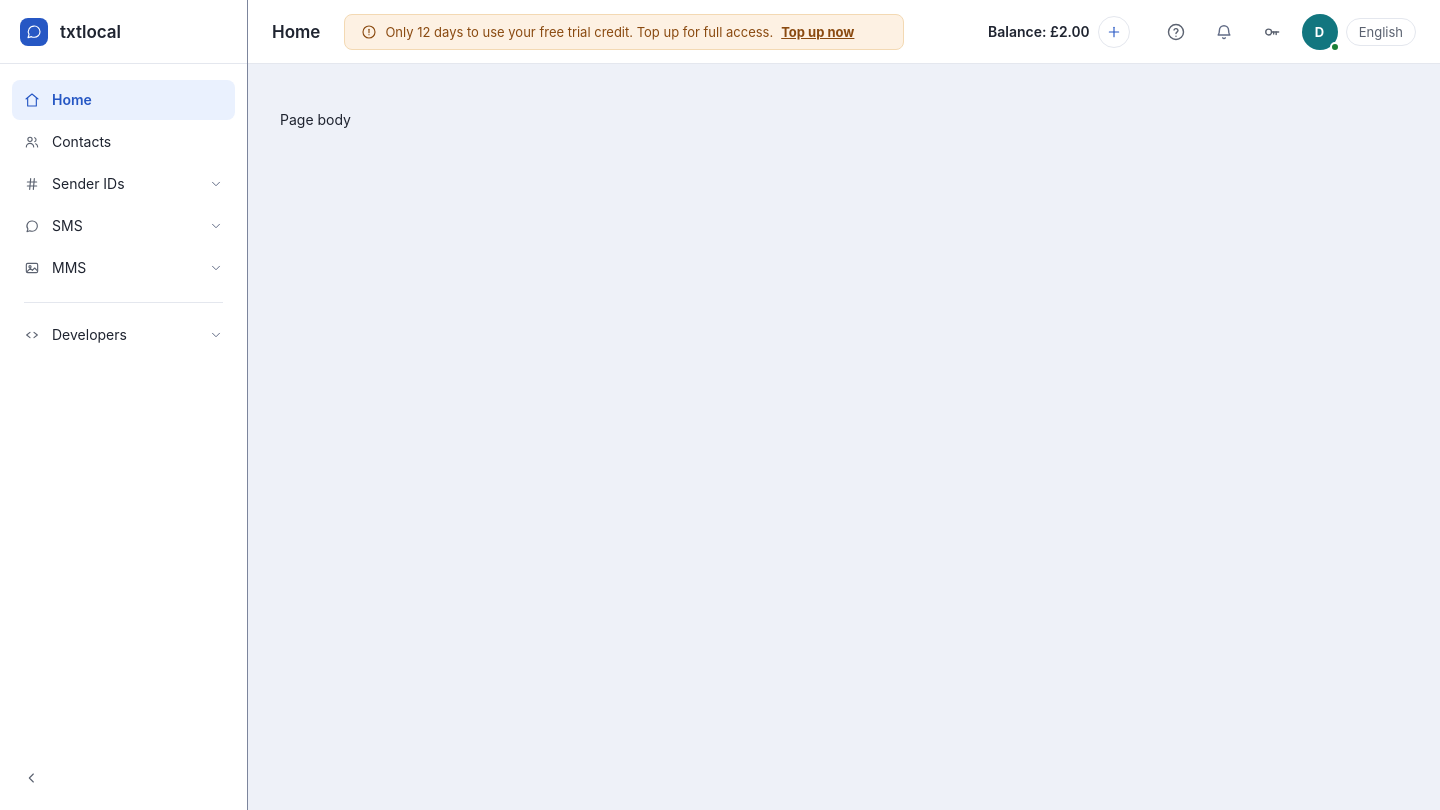
Test case: Sidebar › hides the sidebar navigation once collapsed
The image size is (1440, 810).
Expected: the text "Page body" is shown, [280,111,351,128]
Click the button named "Collapse sidebar".
click(32, 778)  # box [12,758,52,798]
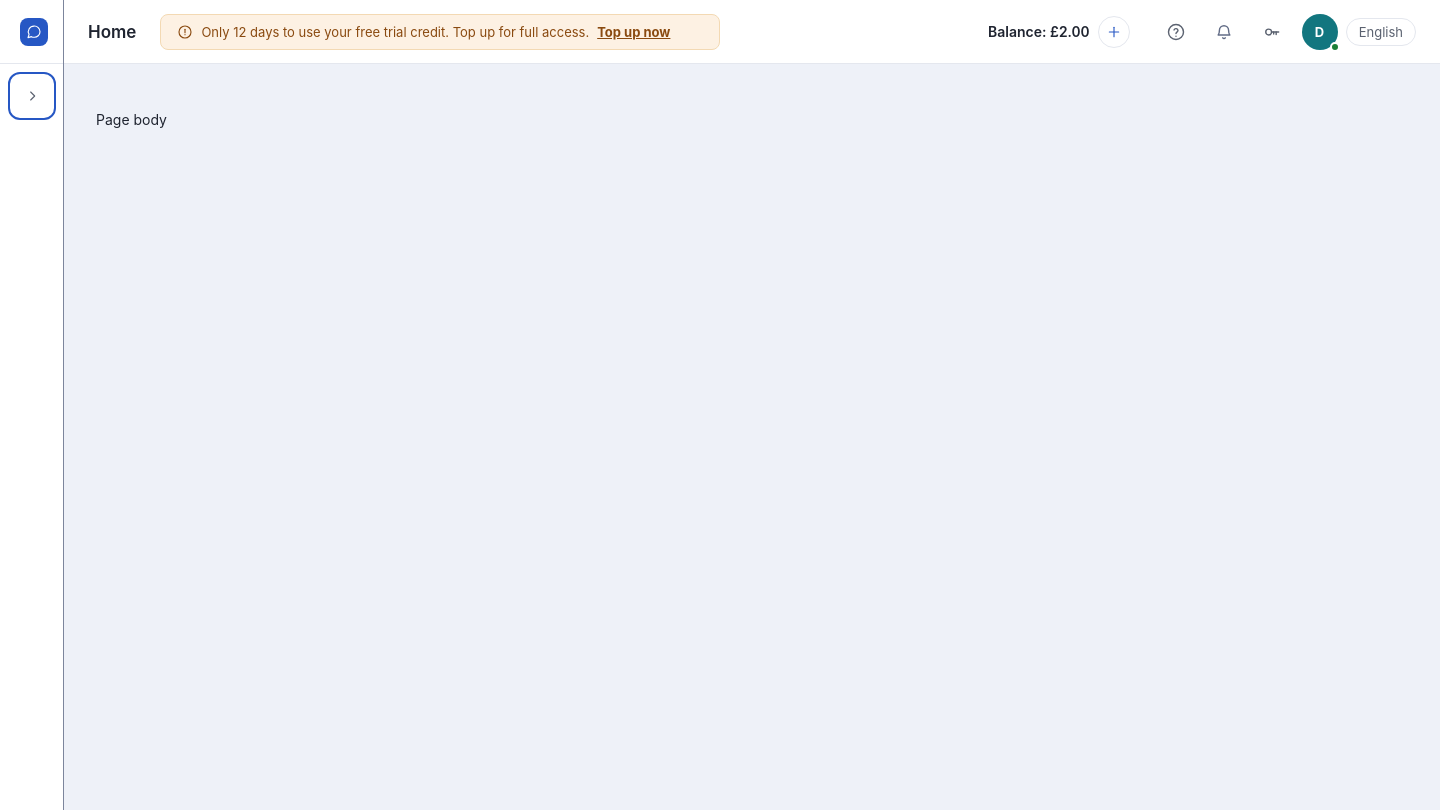
Result: the navigation bar "Main" is gone
Result: the button named "Expand sidebar" is shown at [12,76,52,116]
